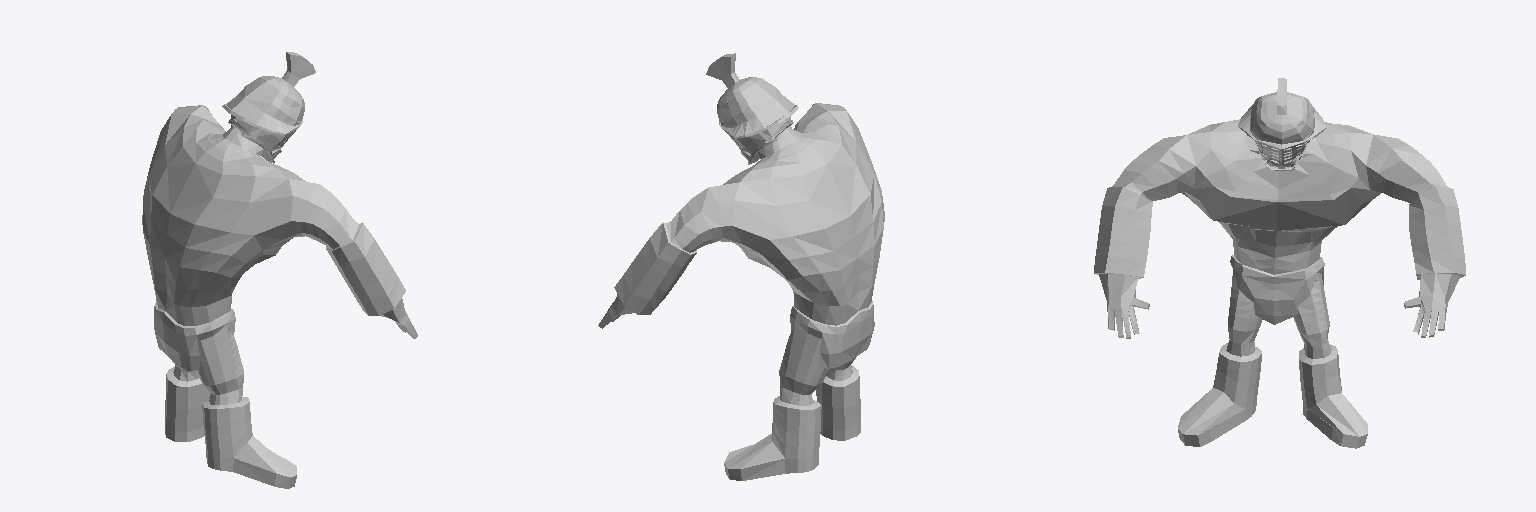
File: GladiatorCelebracion_000189.obj
3 views of the same model, side by side, from view 1: azimuth 30°, elevation 25°; view 2: azimuth 150°, elevation 25°; view 3: azimuth 270°, elevation 25° (orthographic).
Visible parts, largest first — view 1: Cube_Cube.001; view 2: Cube_Cube.001; view 3: Cube_Cube.001.
Boxes of the visible parts, <box> form: Cube_Cube.001: <box>142,52,417,488</box>; Cube_Cube.001: <box>598,53,884,480</box>; Cube_Cube.001: <box>1094,78,1465,448</box>.
Bounding box in the file's own units: 2.73 × 5.43 × 4.74.